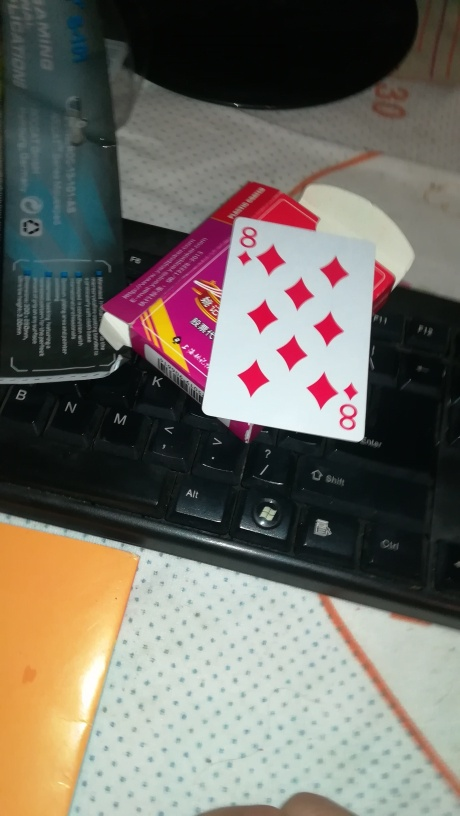fk 8: (198, 213, 376, 445)
